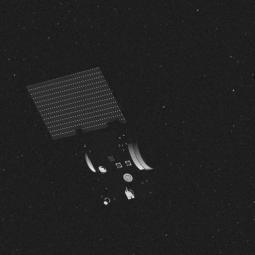proba_3_csc: (37, 65, 158, 212)
